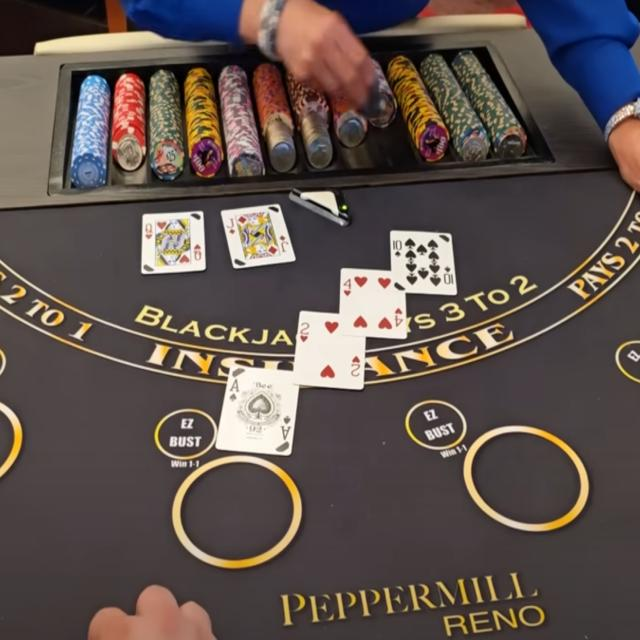10: (392, 237, 403, 251)
2: (300, 321, 310, 335)
4: (342, 276, 352, 290)
A: (229, 377, 241, 393)
J: (226, 217, 235, 229)
Q: (144, 222, 153, 234)
